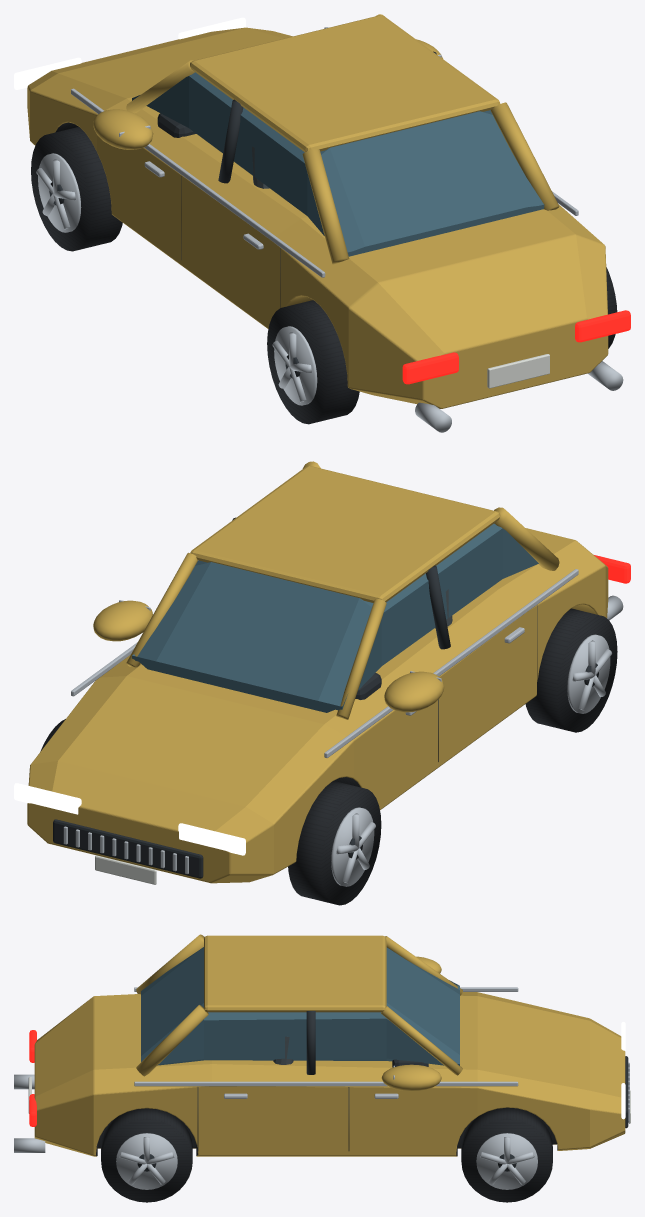
Rendered from mc_taxi.glb.
3 renders of one model, top to bottom at view 1: azimuth 30°, elevation 25°; view 2: azimuth 150°, elevation 25°; view 3: azimuth 270°, elevation 25°, orthographic. The views are drawn at different scales.
Parts seen in each view (by area): view 1: mc_taxi__Geometry, mc_taxi__Wheel_L, mc_taxi__Wheel_L.001; view 2: mc_taxi__Geometry, mc_taxi__Wheel_L.001, mc_taxi__Wheel_L; view 3: mc_taxi__Geometry, mc_taxi__Wheel_R.001, mc_taxi__Wheel_R.
Part boxes in pixels (x1,y1,x2,y2): mc_taxi__Geometry: (14, 14, 630, 432); mc_taxi__Wheel_L: (267, 300, 359, 424); mc_taxi__Wheel_L.001: (31, 127, 122, 251); mc_taxi__Geometry: (14, 461, 630, 886); mc_taxi__Wheel_L.001: (288, 781, 381, 905); mc_taxi__Wheel_L: (525, 608, 617, 732); mc_taxi__Geometry: (14, 934, 630, 1189); mc_taxi__Wheel_R.001: (461, 1107, 552, 1202); mc_taxi__Wheel_R: (101, 1108, 192, 1202).
Bounding box in the file's own units: 2.36 × 1.56 × 4.91.
Materials: 9 (2 with a texture image).
